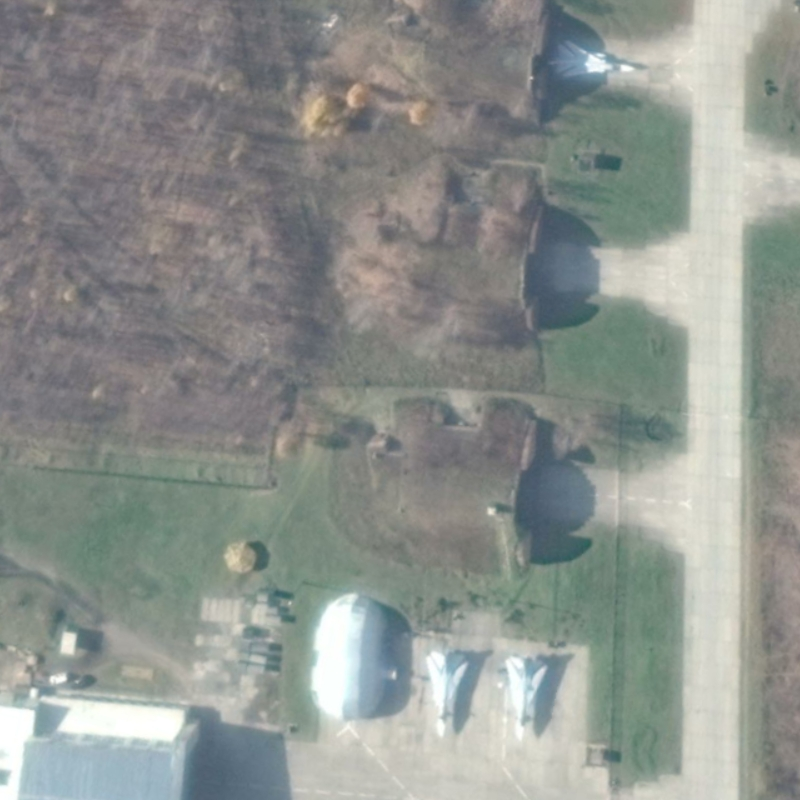A20: (503, 653, 551, 745), (424, 649, 472, 741), (554, 38, 639, 80)
